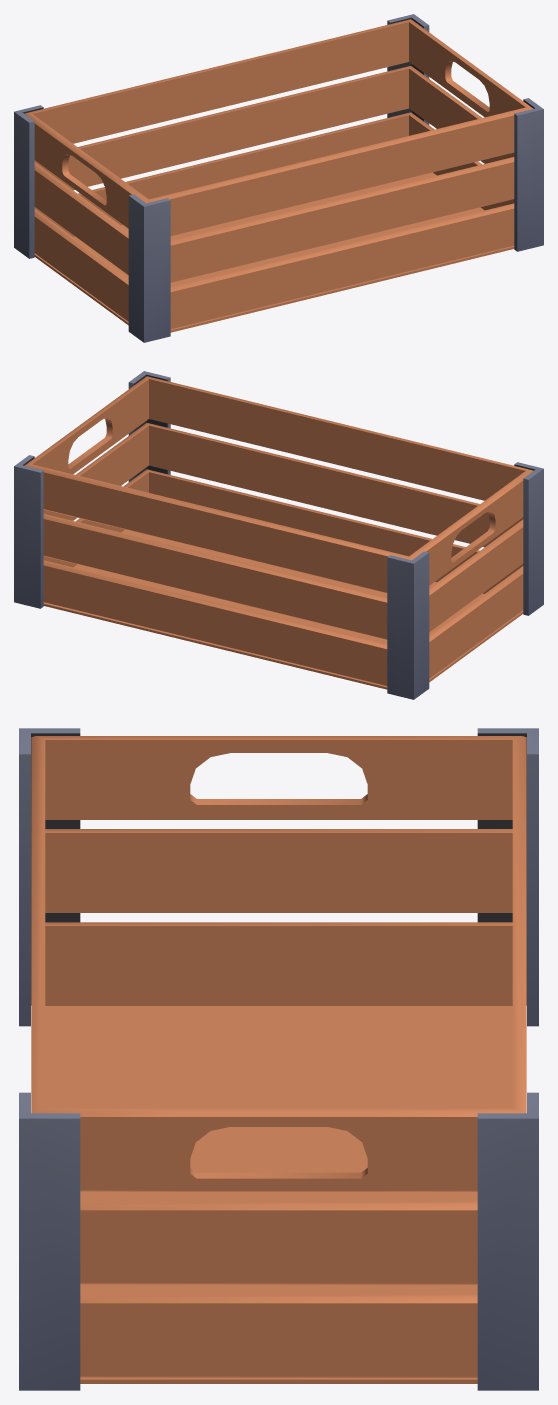
3 renders of one model, top to bottom at view 1: azimuth 30°, elevation 25°; view 2: azimuth 150°, elevation 25°; view 3: azimuth 270°, elevation 25°, orthographic. The views are drawn at different scales.
Visible parts, largest first — view 1: Box; view 2: Box; view 3: Box.
Part boxes in pixels (x1=…): Box: x1=14, y1=14, x2=543, y2=342; Box: x1=14, y1=371, x2=543, y2=699; Box: x1=19, y1=728, x2=538, y2=1390.
Size of the model in its own units: 2.91 by 0.9456 by 1.64.
Materials: 1 (1 with a texture image).
